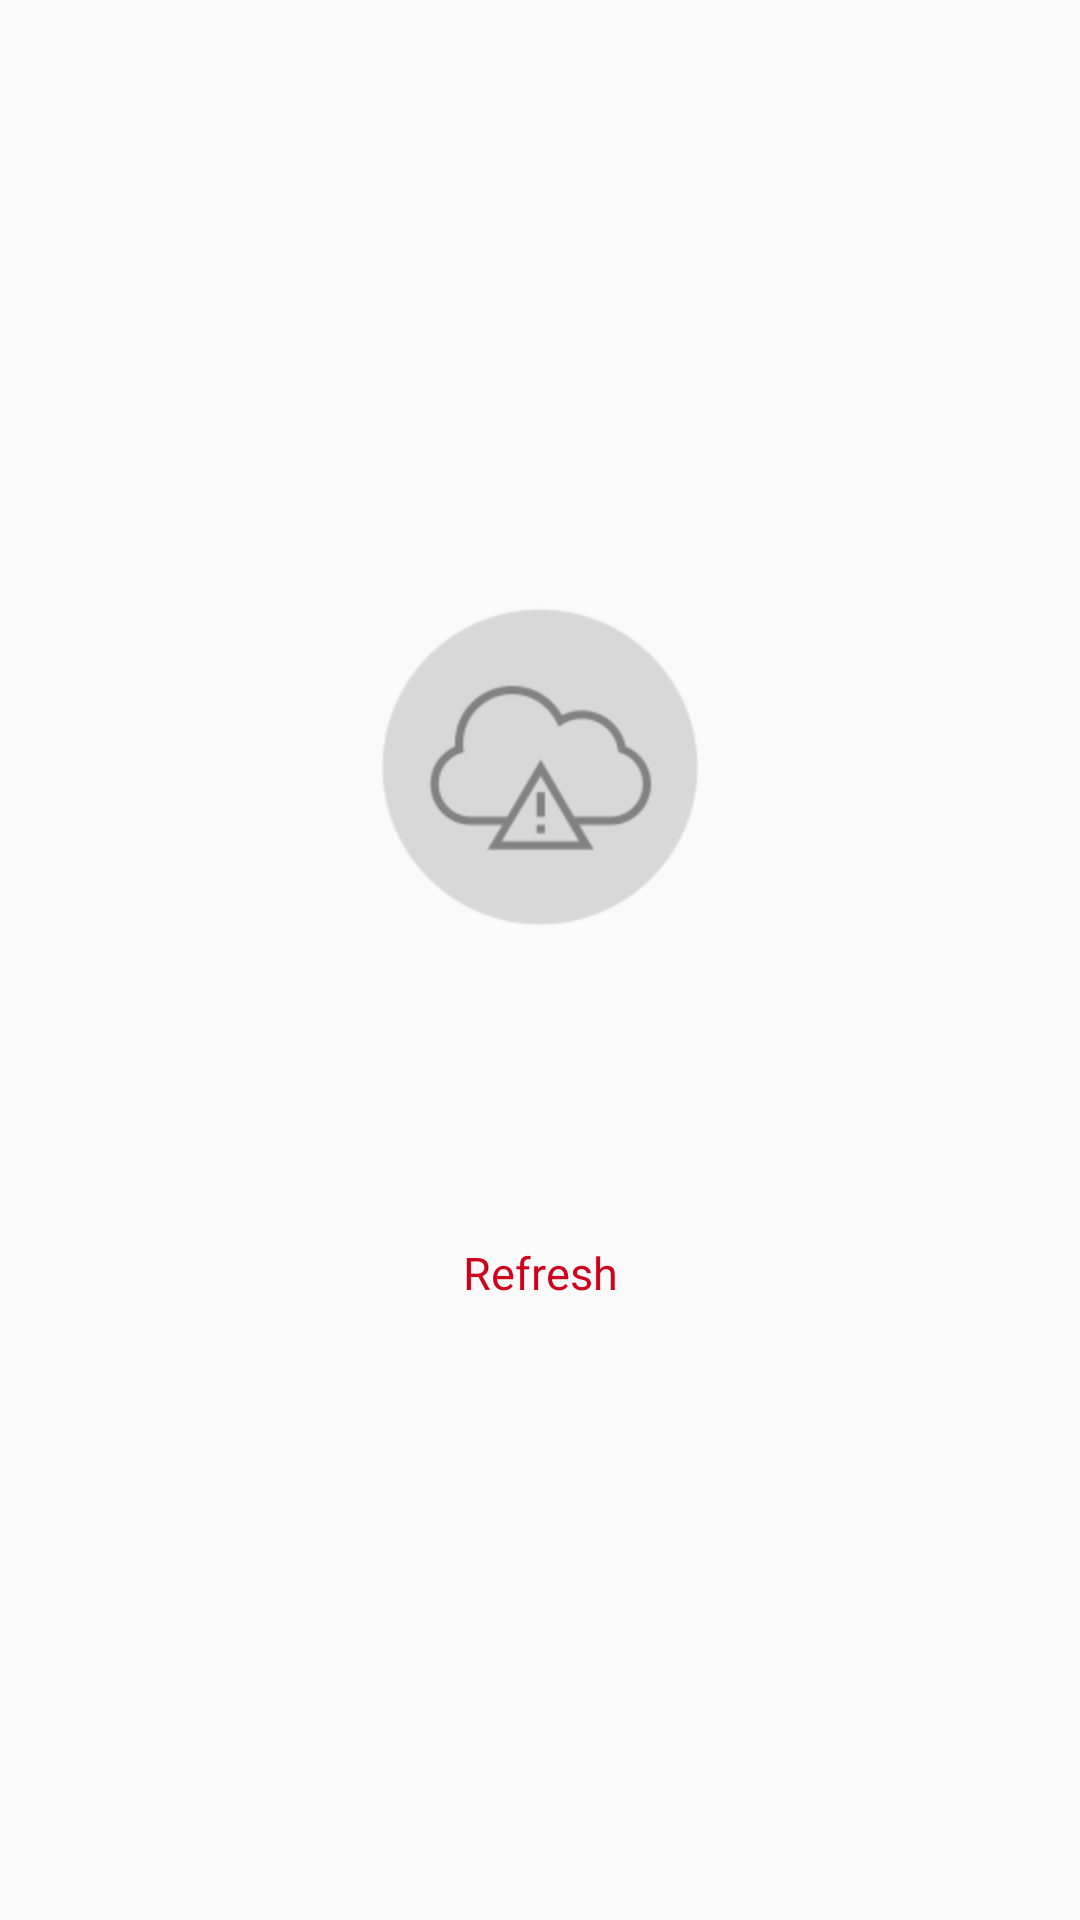

Icon bounding boxes for this 1080×1920 phone screenshot, format rect(x1, y1, x2, y2):
error: rect(383, 610, 697, 924)
